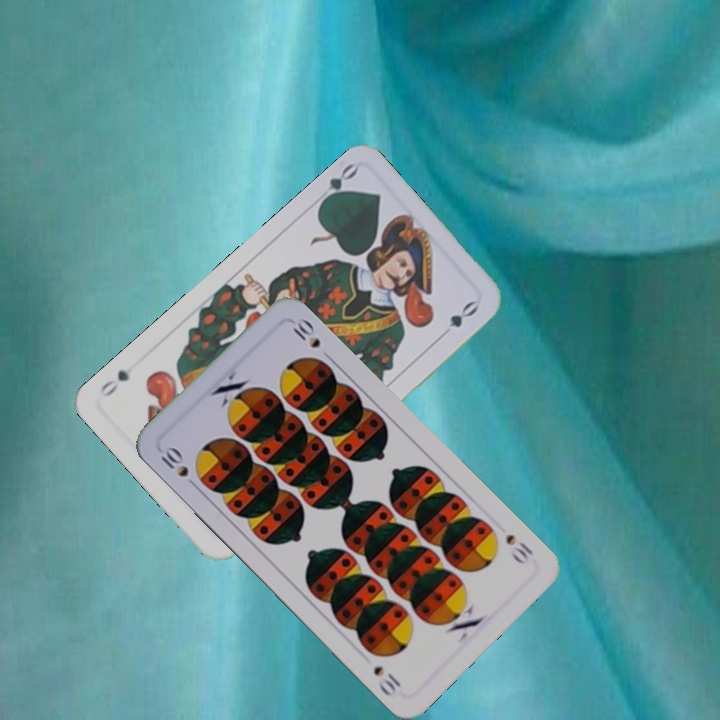GO: (315, 159, 360, 209)
S10: (156, 442, 201, 492), (501, 530, 536, 567)
